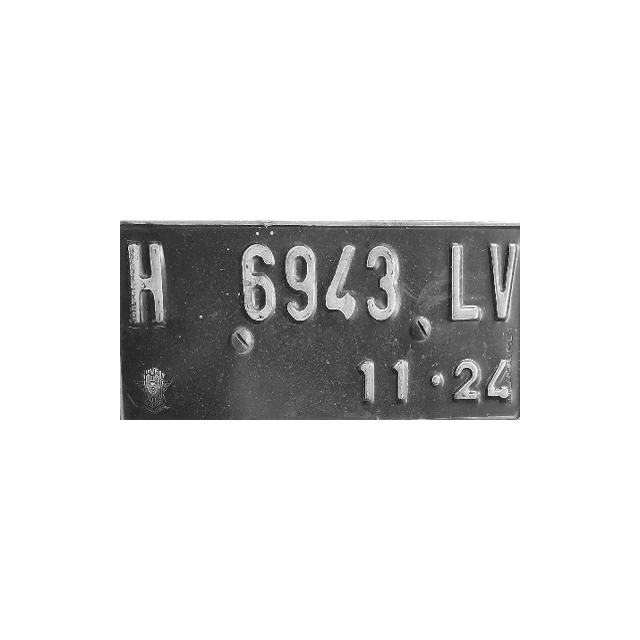contain: (127, 238, 171, 329), (235, 235, 279, 326), (278, 233, 322, 324), (319, 234, 363, 325), (363, 234, 407, 325), (440, 238, 484, 329), (486, 236, 520, 326)
